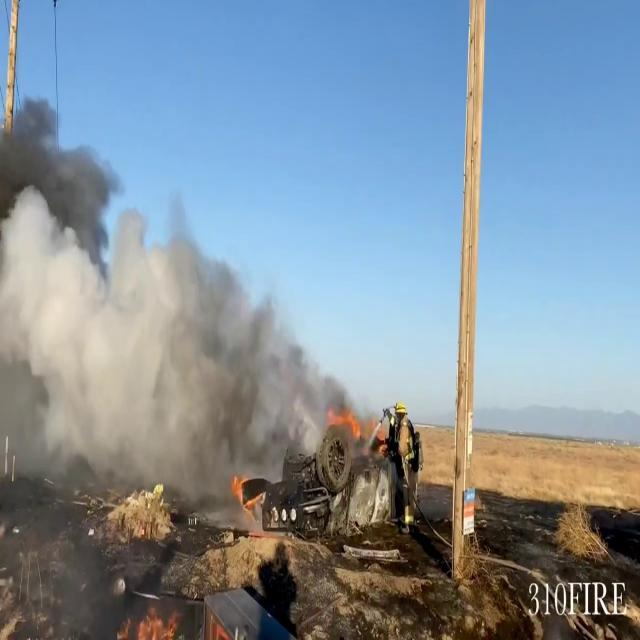Fire: (116, 594, 184, 640)
Smoke: (1, 82, 366, 490)
